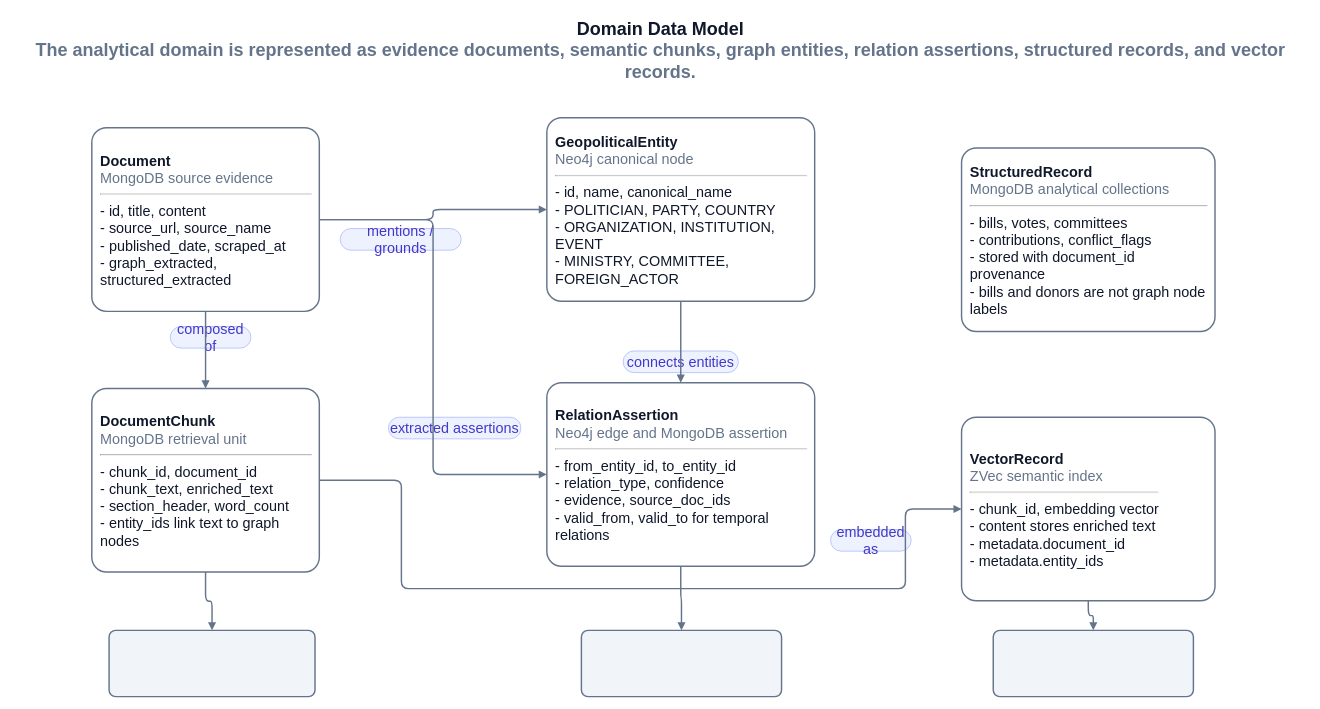
Some shapes in this 1320 by 709 pixel diagram are drawn without their labels. Here are the shapes that lost their labels. From the top down, the centre of each, then its label:
At point 211,663: "MongoDB documents and chunks".
At point 681,663: "Neo4j entities and relationships".
At point 1093,663: "MongoDB + ZVec records and vectors".
